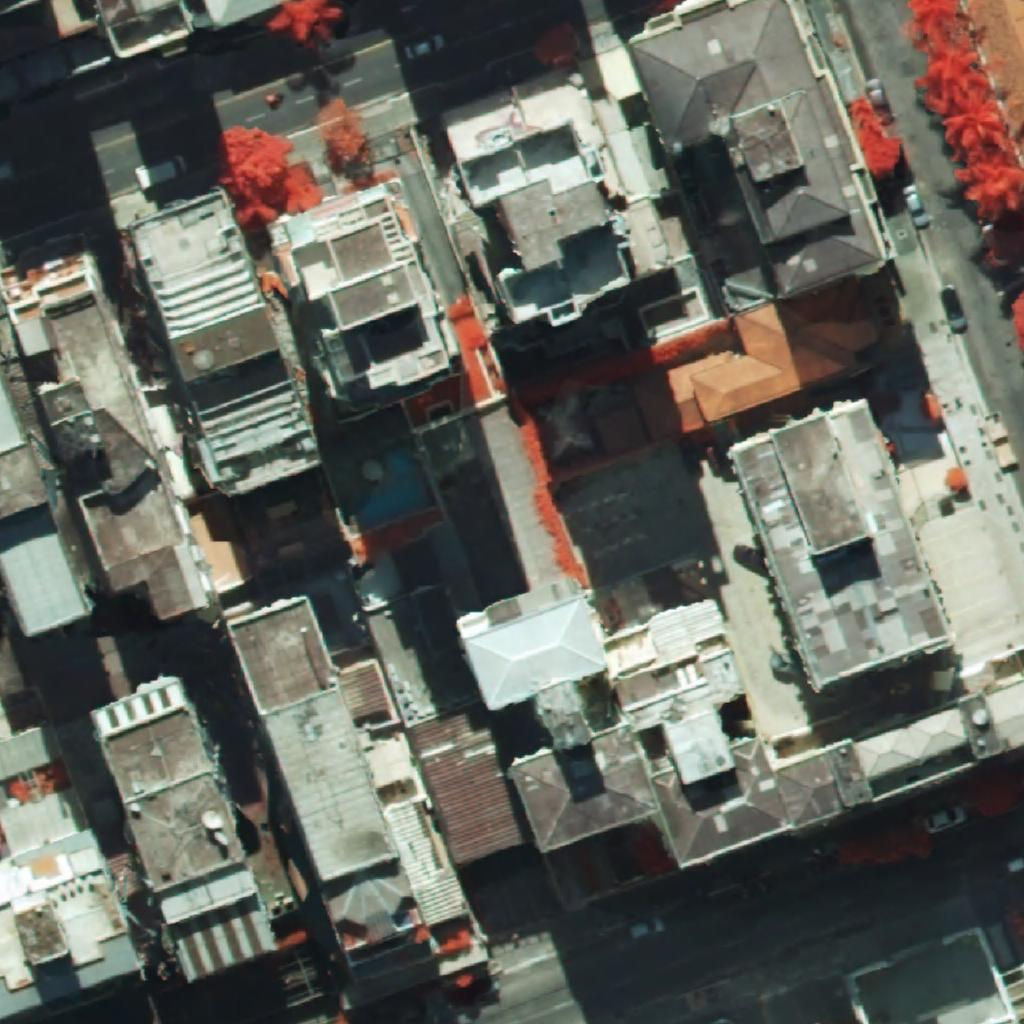pool: (354, 445, 431, 531)
